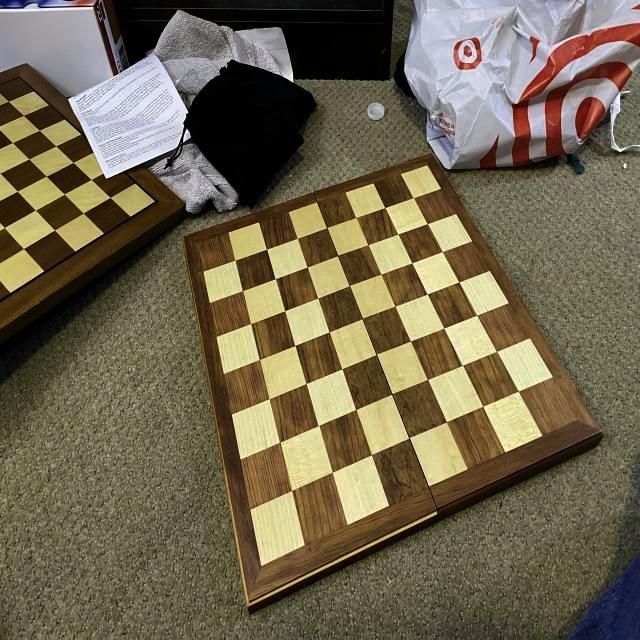chess-table-corners: (252, 550, 282, 582), (556, 406, 590, 434), (188, 238, 217, 262), (414, 158, 438, 182)
